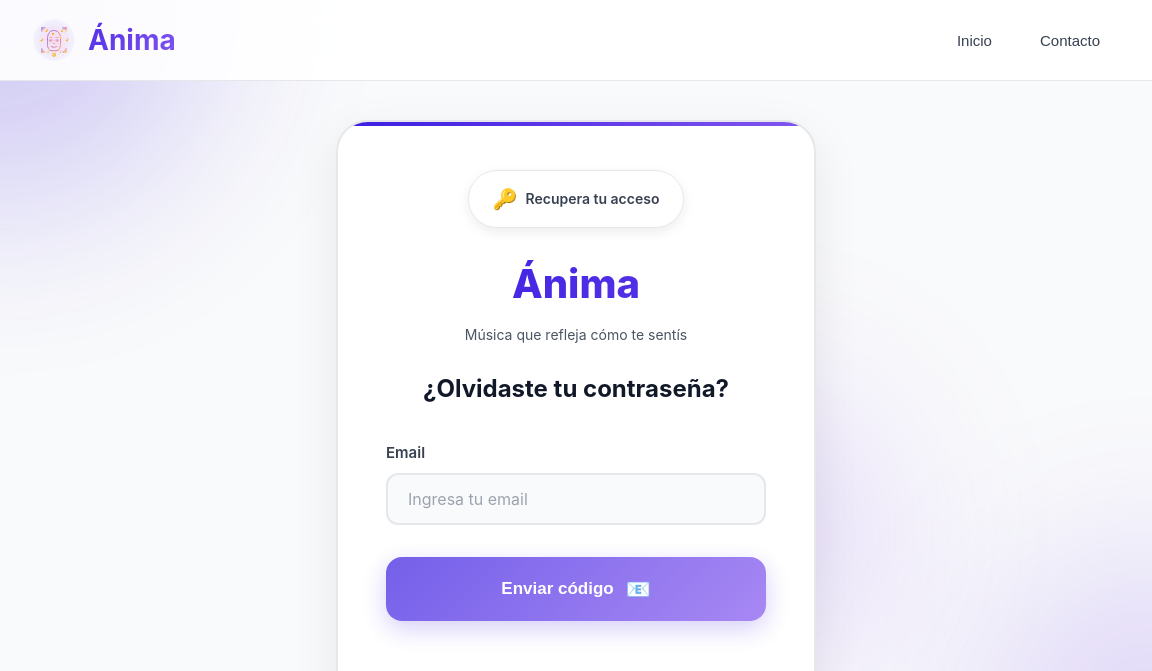
Test: ForgotPassword › handles thrown error from service
Step 1. Type "a@b.com" into the field with placeholder "Ingresa tu email" → (576, 499), box [386,473,766,525]
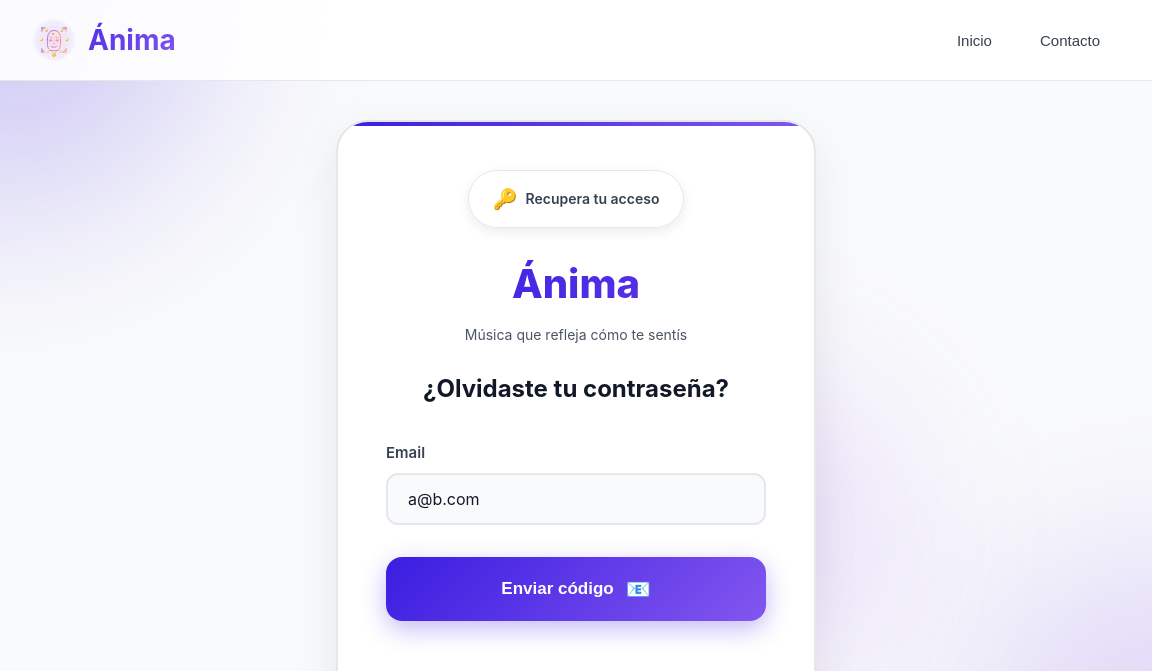
Step 2. Click the button "Enviar código 📧" → (576, 589), box [386,557,766,621]
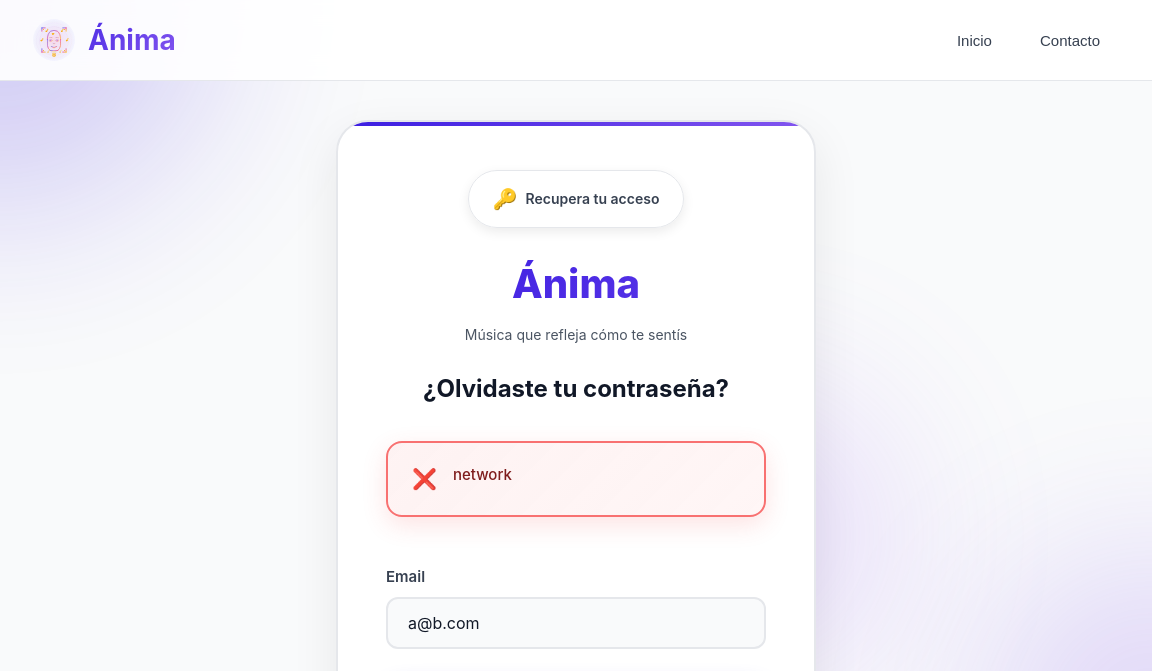
Expected: the text "network" is shown, [453,463,512,487]
